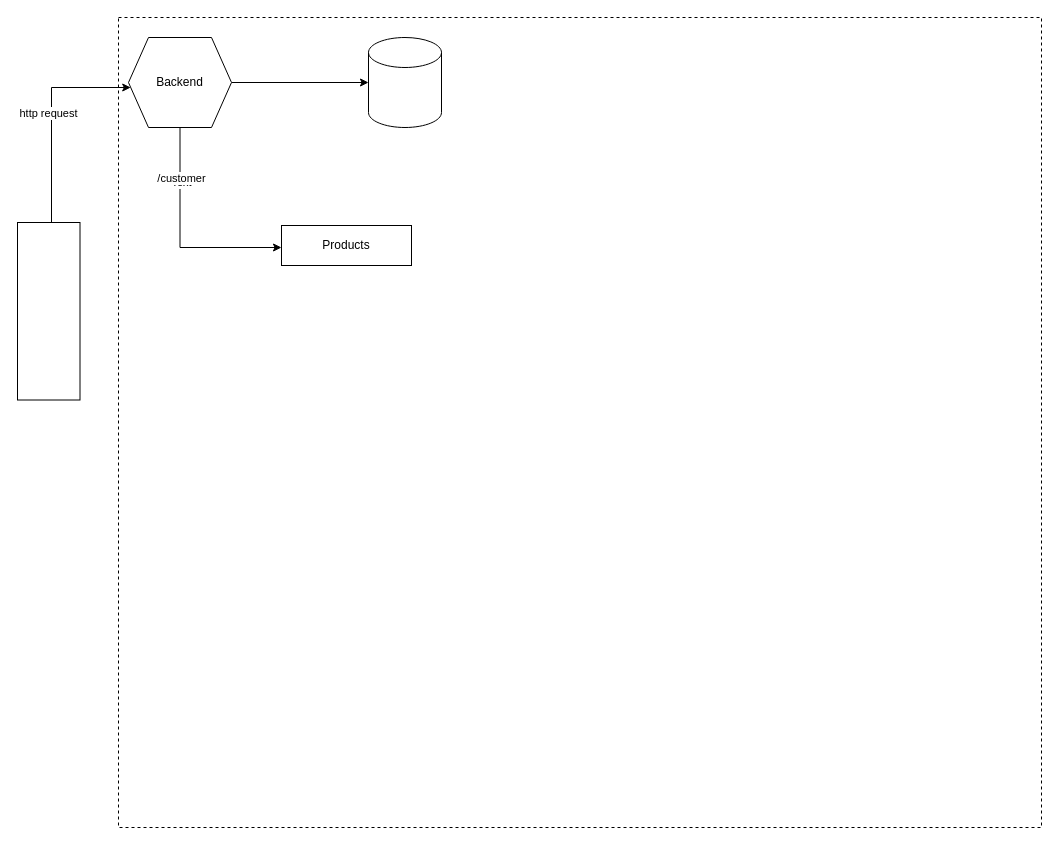
This 1059x845 diagram has some shape labels left out. Here are the shapes that lost their labels. From the top down, the box of each, then its label:
(368, 36, 442, 128): MongoDB
(16, 222, 80, 400): Mobile/Web App
